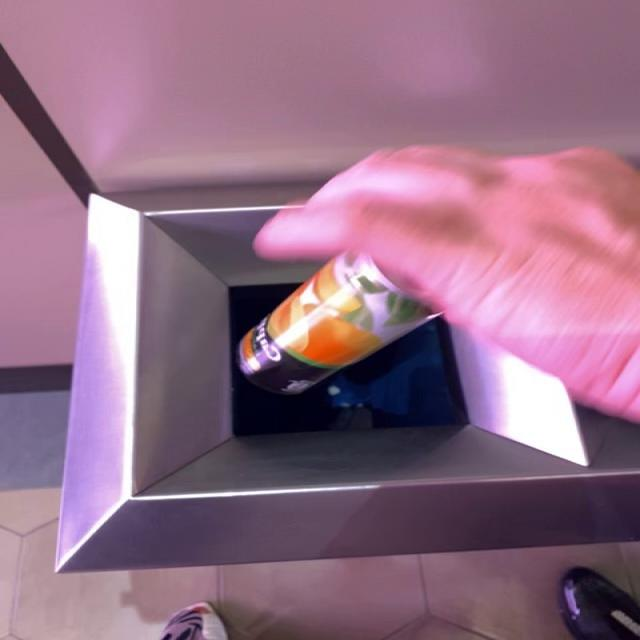bin: (59, 185, 637, 572)
metal: (240, 254, 436, 394)
